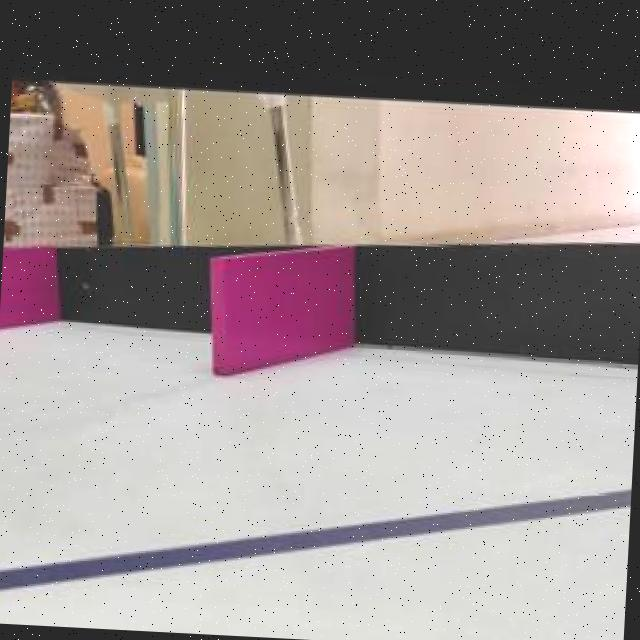xparking: (213, 259, 348, 368), (0, 251, 51, 333)
